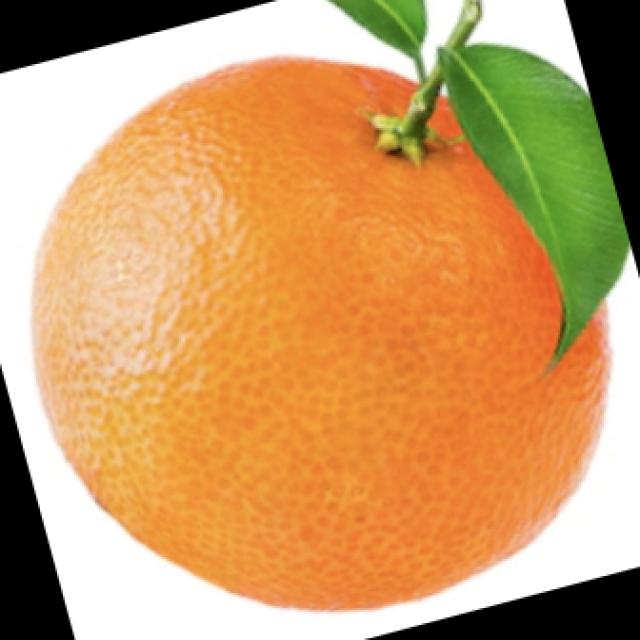fresh: (21, 17, 640, 622)
